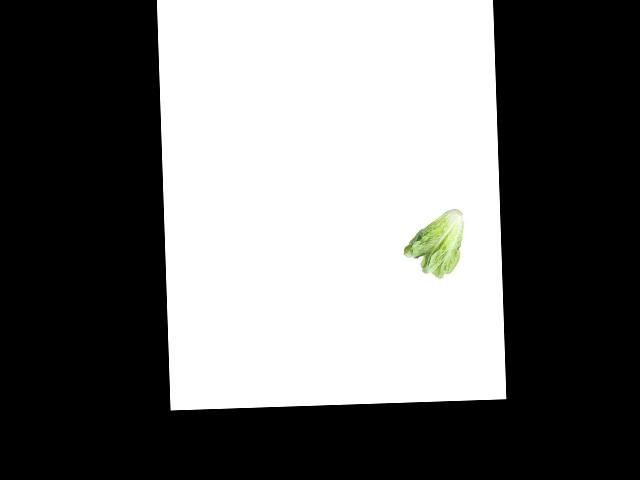lettuce: (398, 210, 469, 279)
